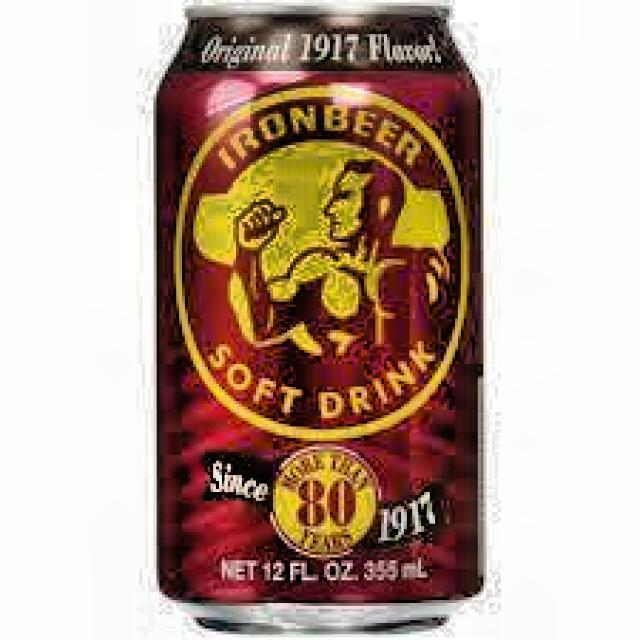can: (149, 0, 492, 640)
